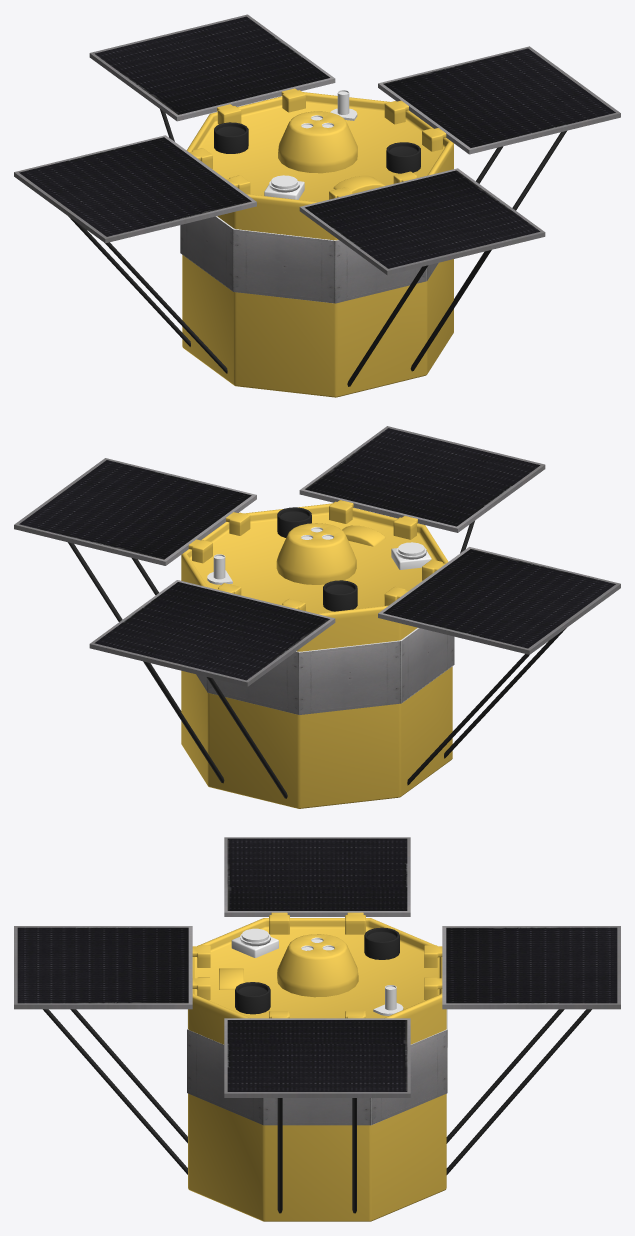
File: acrimsat.glb
3 views of the same model, one above another, from view 1: azimuth 30°, elevation 25°; view 2: azimuth 150°, elevation 25°; view 3: azimuth 270°, elevation 25° (orthographic).
Visible parts, largest first — view 1: shiny_panel, BUS, Band, array_frame, black_krinkle, metal_instruments; view 2: shiny_panel, BUS, Band, array_frame, black_krinkle, metal_instruments; view 3: shiny_panel, BUS, Band, array_frame, black_krinkle, metal_instruments.
Boxes of the visible parts, left/top/right/bottom form: shiny_panel: left=19, top=16, right=615, bottom=268; BUS: left=182, top=88, right=453, bottom=397; Band: left=180, top=216, right=438, bottom=303; array_frame: left=14, top=14, right=620, bottom=275; black_krinkle: left=68, top=109, right=566, bottom=386; metal_instruments: left=264, top=90, right=357, bottom=199; shiny_panel: left=19, top=428, right=615, bottom=680; BUS: left=181, top=500, right=452, bottom=808; Band: left=196, top=628, right=454, bottom=714; array_frame: left=14, top=426, right=620, bottom=686; black_krinkle: left=68, top=507, right=566, bottom=798; metal_instruments: left=207, top=542, right=431, bottom=584; shiny_panel: left=17, top=838, right=617, bottom=1091; BUS: left=188, top=912, right=446, bottom=1221; Band: left=187, top=1009, right=447, bottom=1125; array_frame: left=14, top=837, right=620, bottom=1097; black_krinkle: left=43, top=927, right=591, bottom=1213; metal_instruments: left=231, top=928, right=403, bottom=1015.
Bounding box in the file's own units: 1.8 × 0.7267 × 1.8.
5 materials, 2 textured.
